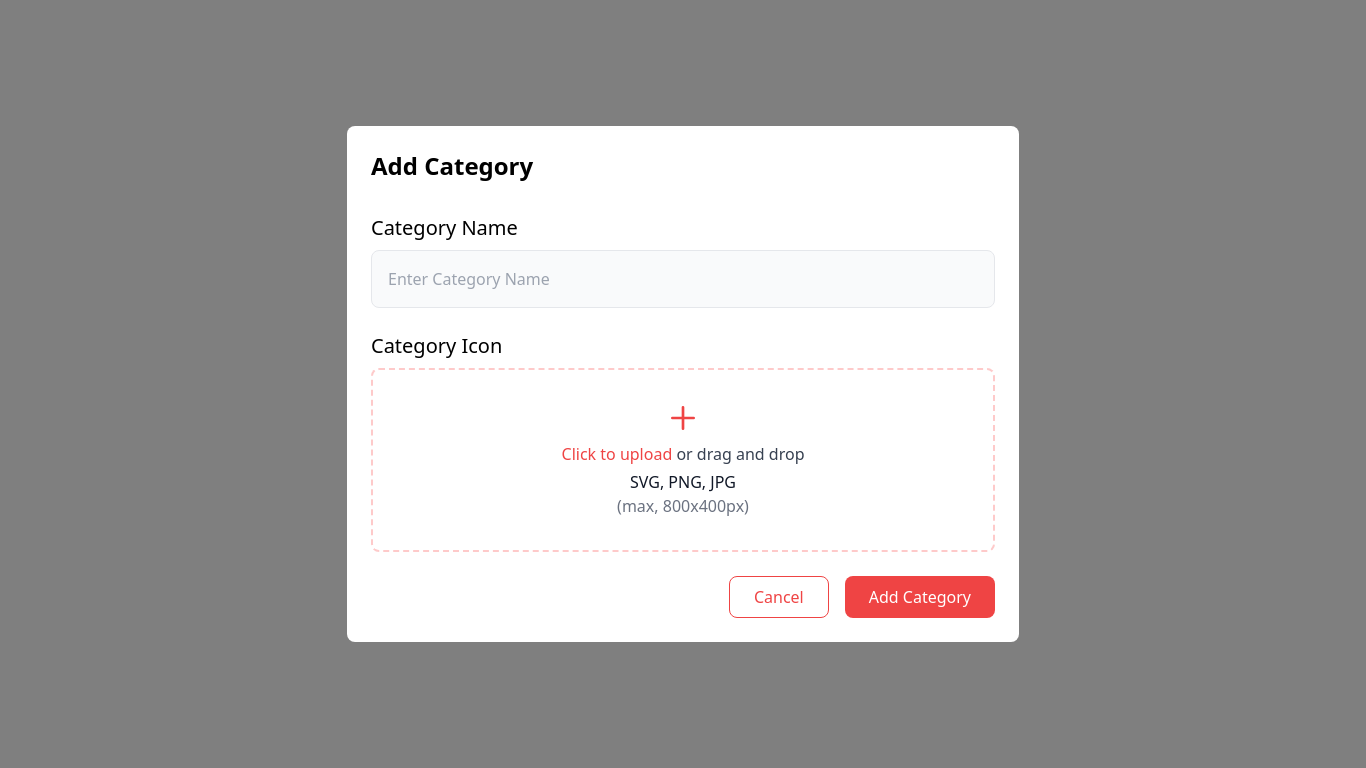
Test: CategoryFormModal Component › displays validation errors when form is submitted with empty fields
The image size is (1366, 768).
Click the button "Add Category" at (920, 597), box [845,576,995,618]
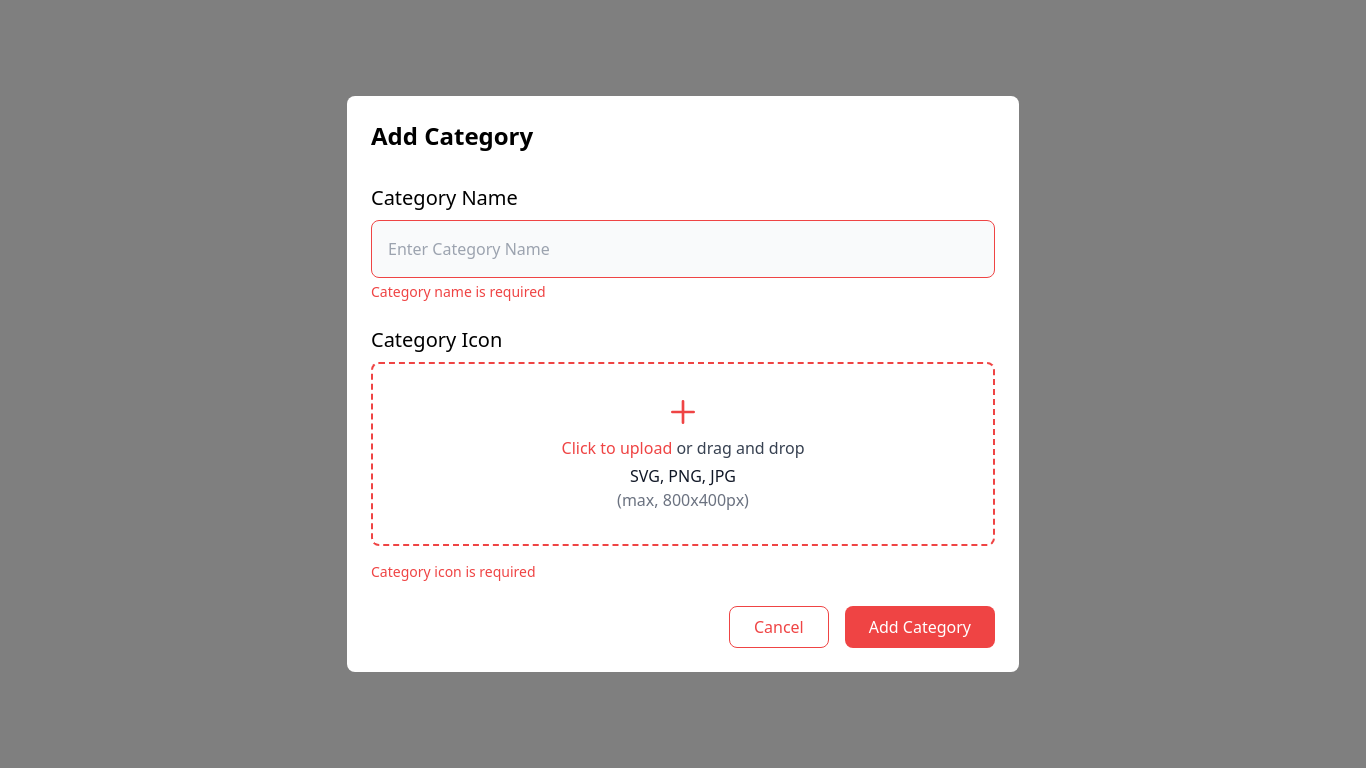
Now the text "Category name is required" is shown, box [371,282,546,301]
Now the text "Category icon is required" is shown, box [371,562,536,581]
